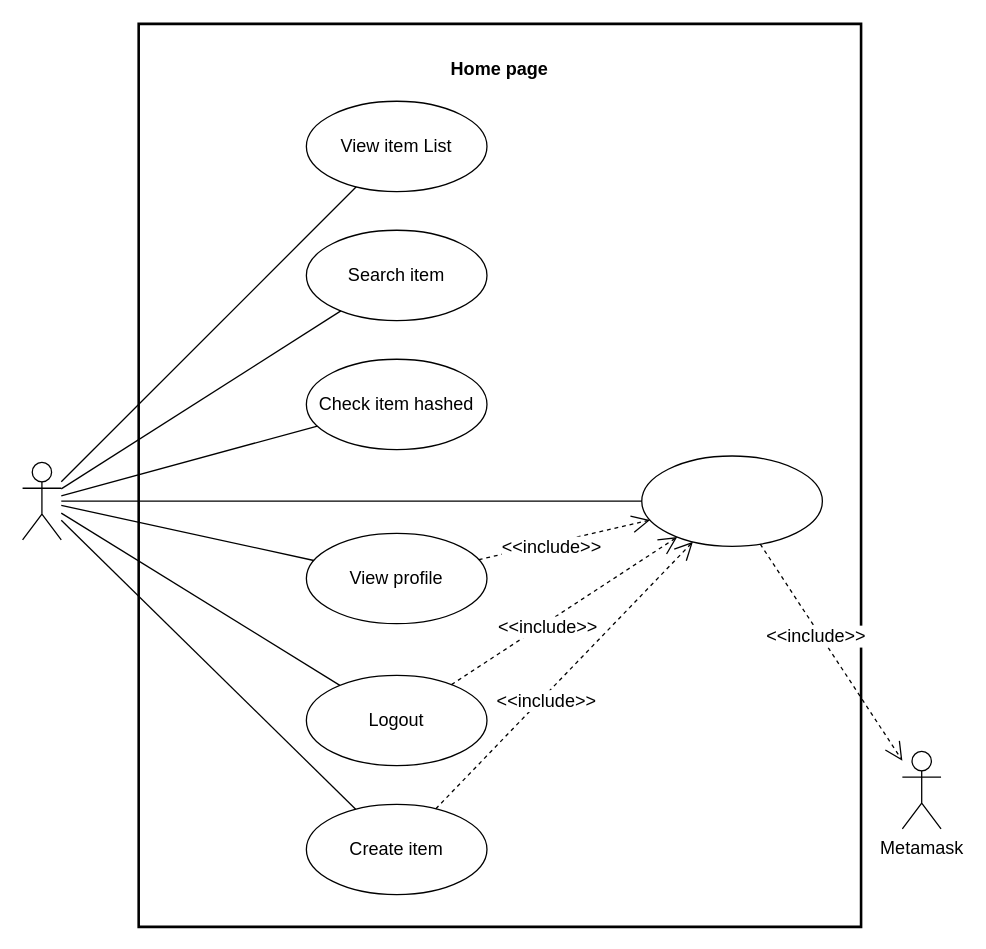
This 986x949 diagram has some shape labels left out. Each missing label, with the centre of its shape:
Login: (731,500)
User: (41,500)
